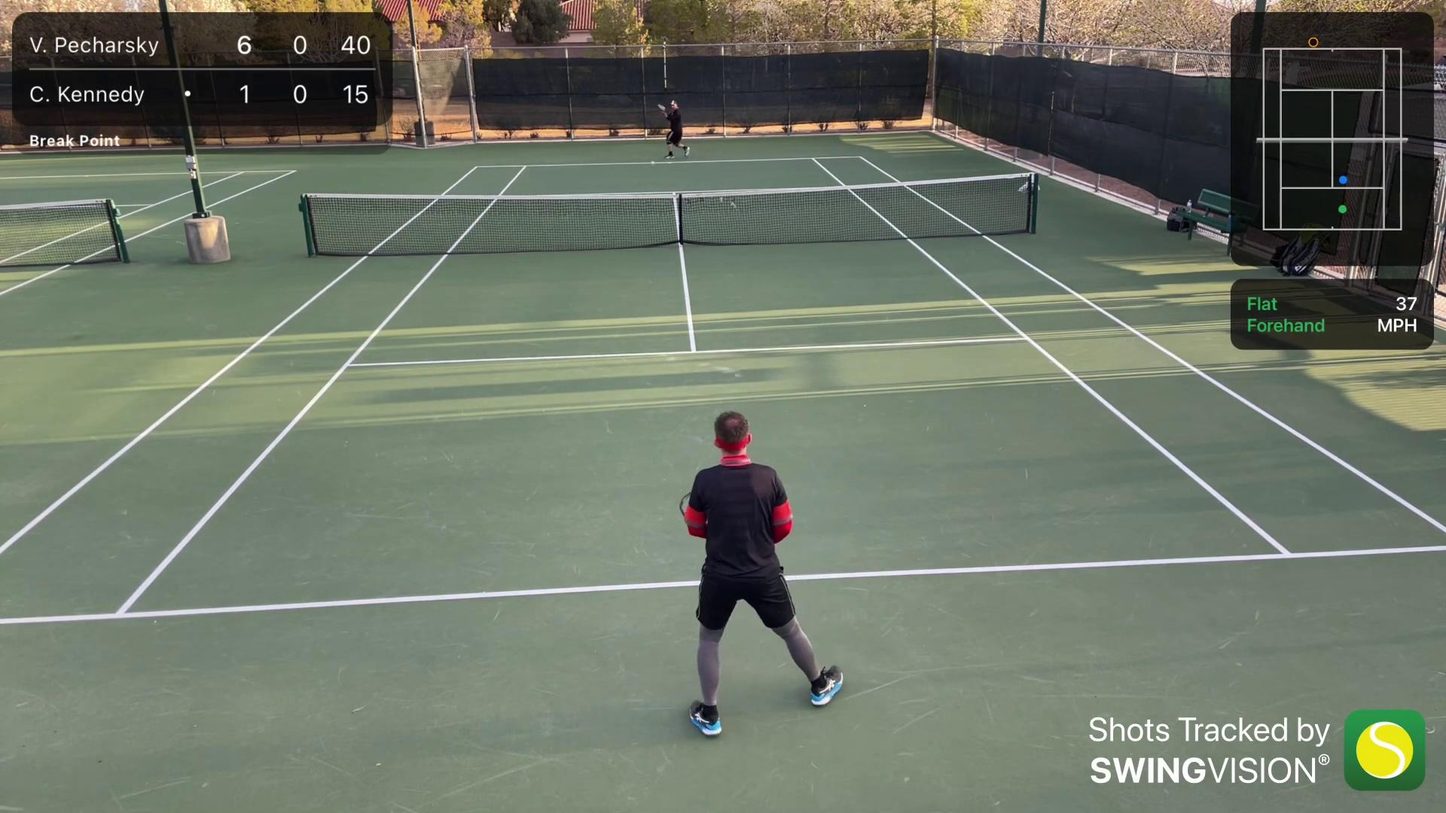ball: (650, 161, 656, 168)
